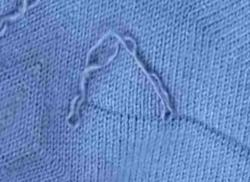snag: (147, 94, 186, 127)
